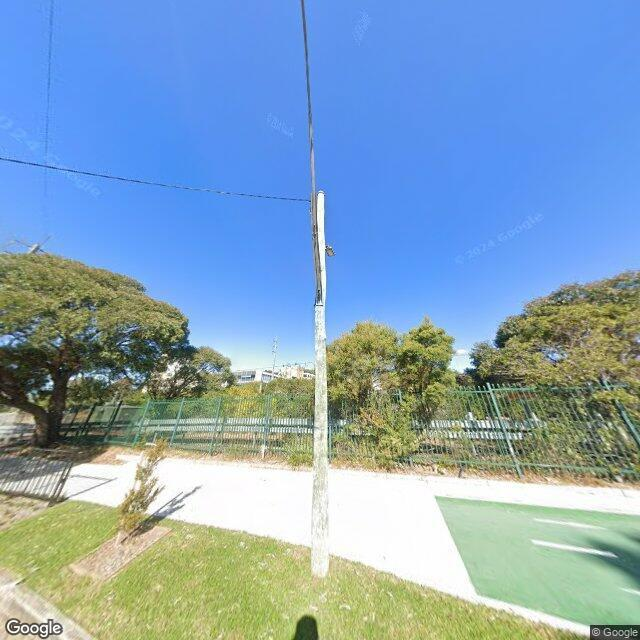streetlight: (300, 0, 323, 305)
timber-pole: (308, 191, 329, 579)
